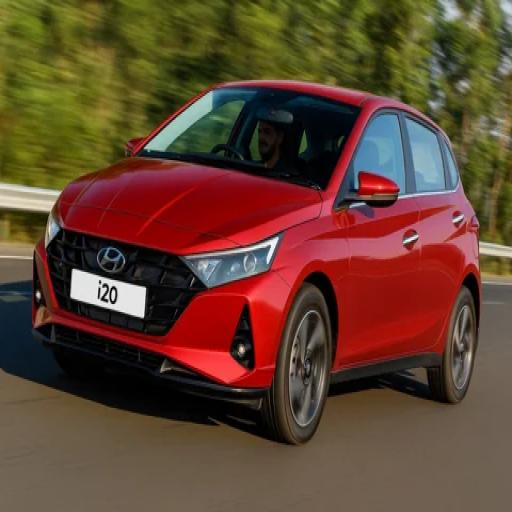License: (65, 260, 154, 318)
